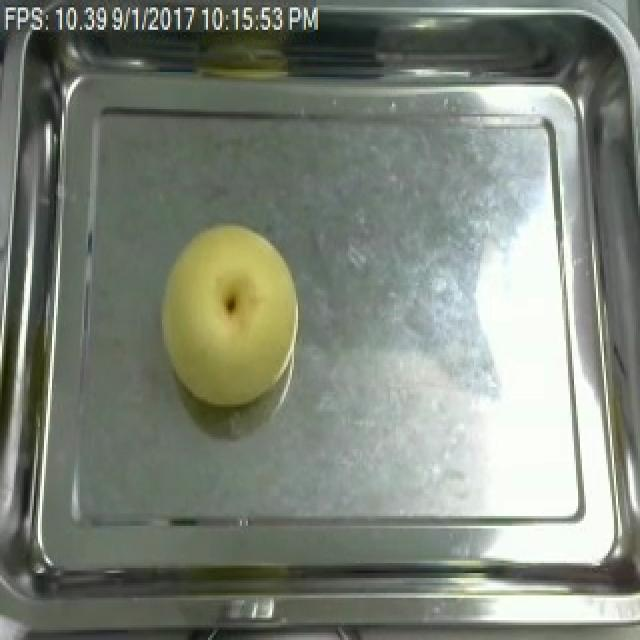Fruit: (152, 213, 308, 414)
